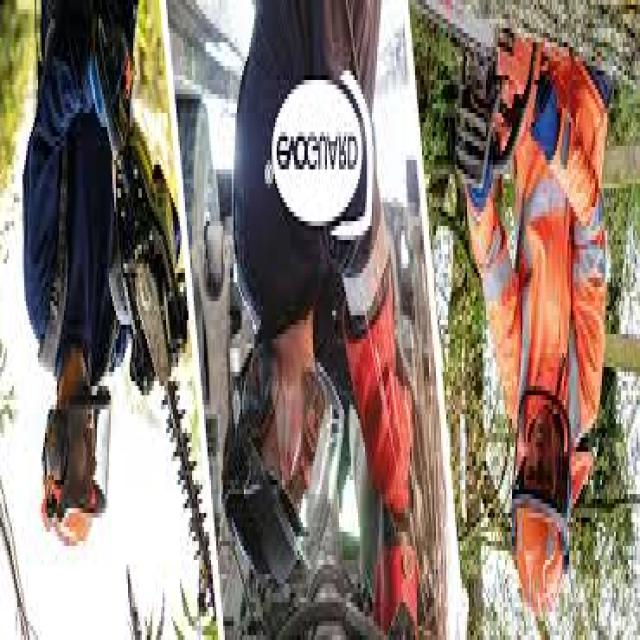Ear-Protection: (230, 344, 275, 456), (36, 405, 70, 494)
Gloves: (342, 309, 421, 640), (78, 35, 135, 113), (533, 71, 562, 171), (466, 142, 494, 213)
Helmet: (218, 442, 304, 584), (507, 494, 564, 621), (38, 499, 106, 555)
